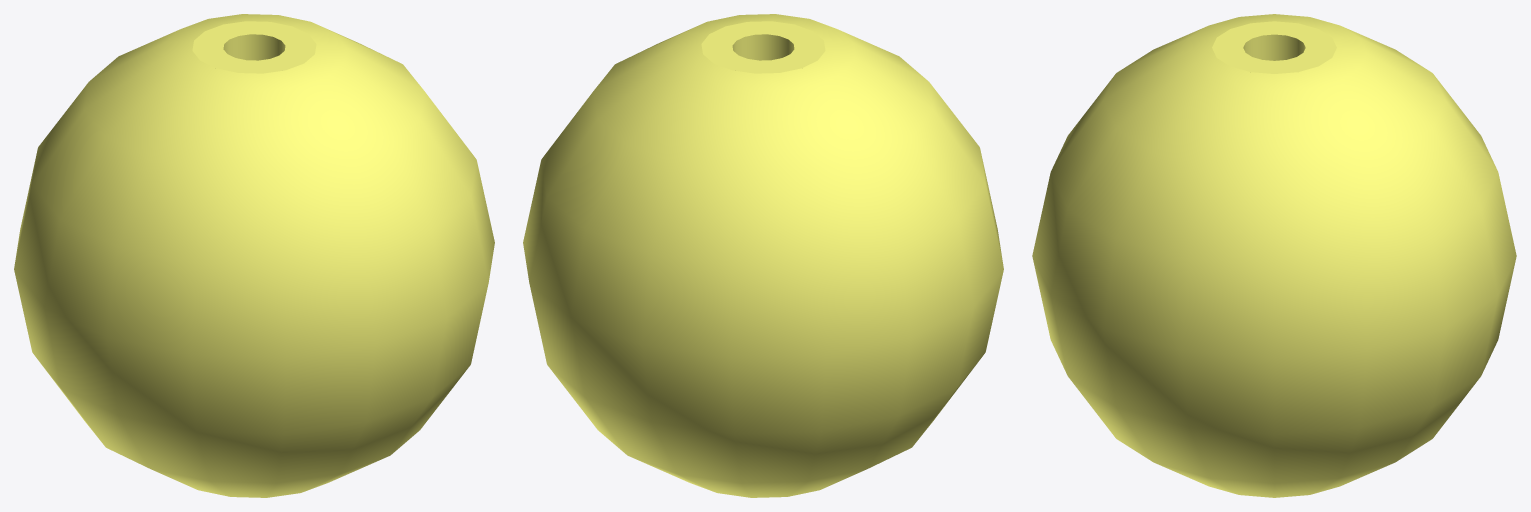
The picture shows the model from 3 angles, left to right: view 1: azimuth 30°, elevation 25°; view 2: azimuth 150°, elevation 25°; view 3: azimuth 270°, elevation 25°; orthographic projection.
Parts seen in each view (by area): view 1: 54821.dat; view 2: 54821.dat; view 3: 54821.dat.
Part boxes in pixels (box(x1,y1,x2,y2)): 54821.dat: box(14, 14, 494, 497); 54821.dat: box(523, 14, 1003, 497); 54821.dat: box(1032, 14, 1516, 497).
Bounding box in the file's own units: 0.0166 × 0.0157 × 0.0166.
